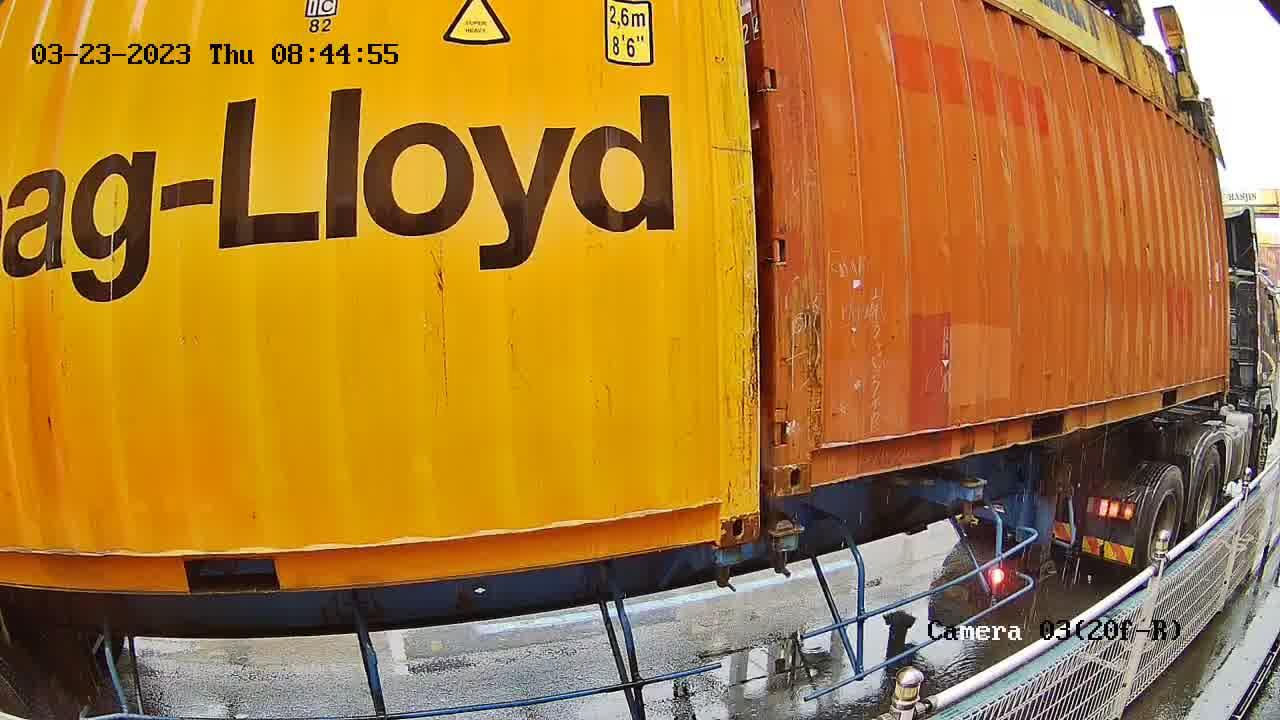Cone: (766, 512, 801, 574), (708, 544, 753, 591)
Hole_L: (774, 423, 839, 495)
Hole_R: (688, 478, 760, 549)
Tire: (1138, 465, 1186, 571), (1191, 448, 1221, 543)
